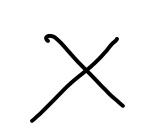mult: (30, 34, 127, 123)
